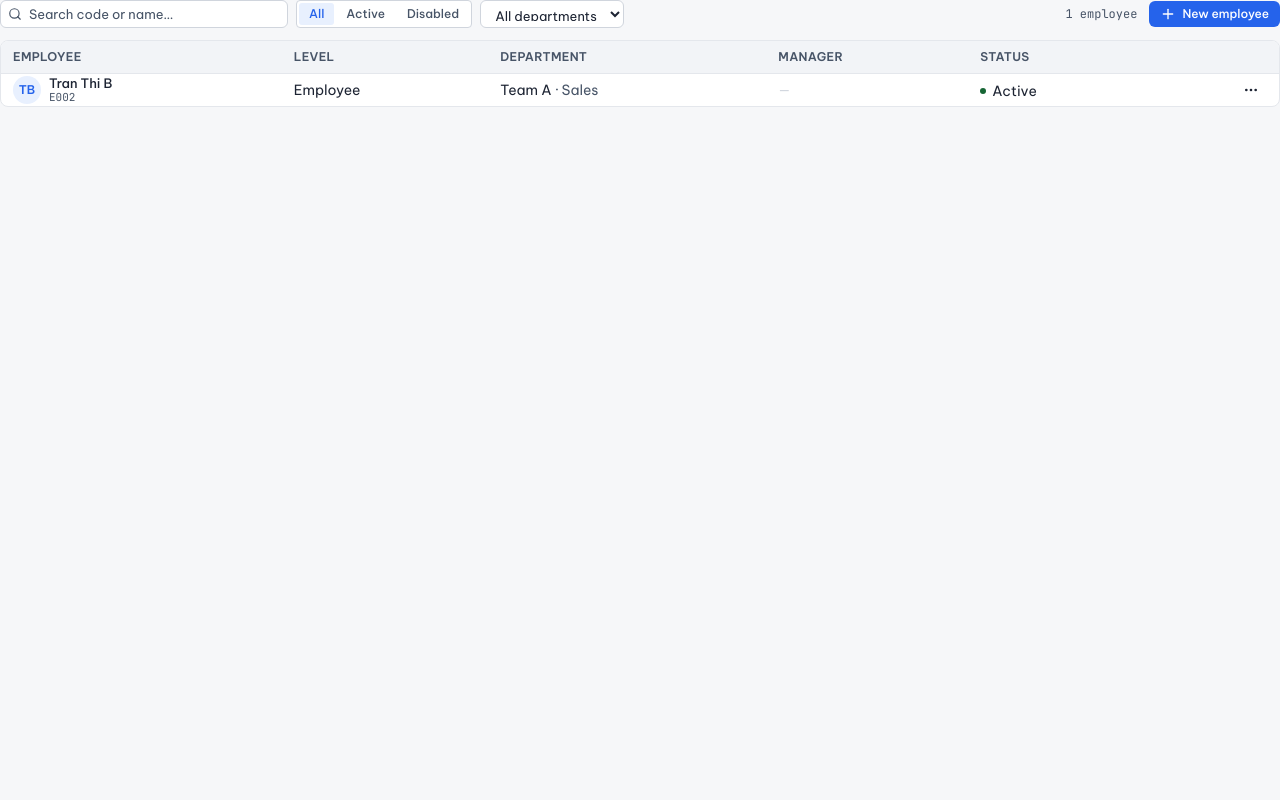
Scenario: UsersPanel: row actions › asks first, then disables the employee and reloads the list
This screenshot has width=1280, height=800.
Expected: the text "Tran Thi B" is shown, 49,74 -> 112,91
Click the button named "Actions for" at (1251, 90), box 1235,74 -> 1267,106
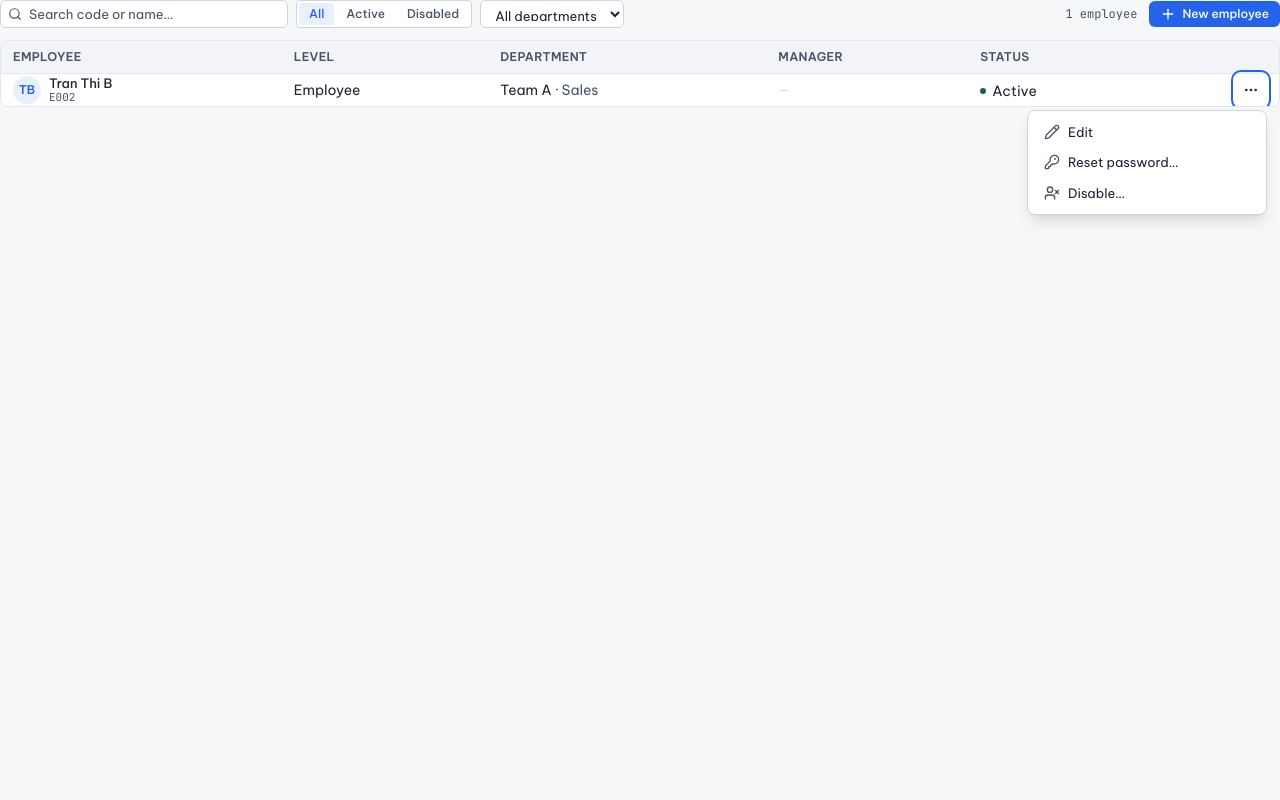
Click the menu item "Disable…" at (1147, 193), box 1034,178 -> 1260,208
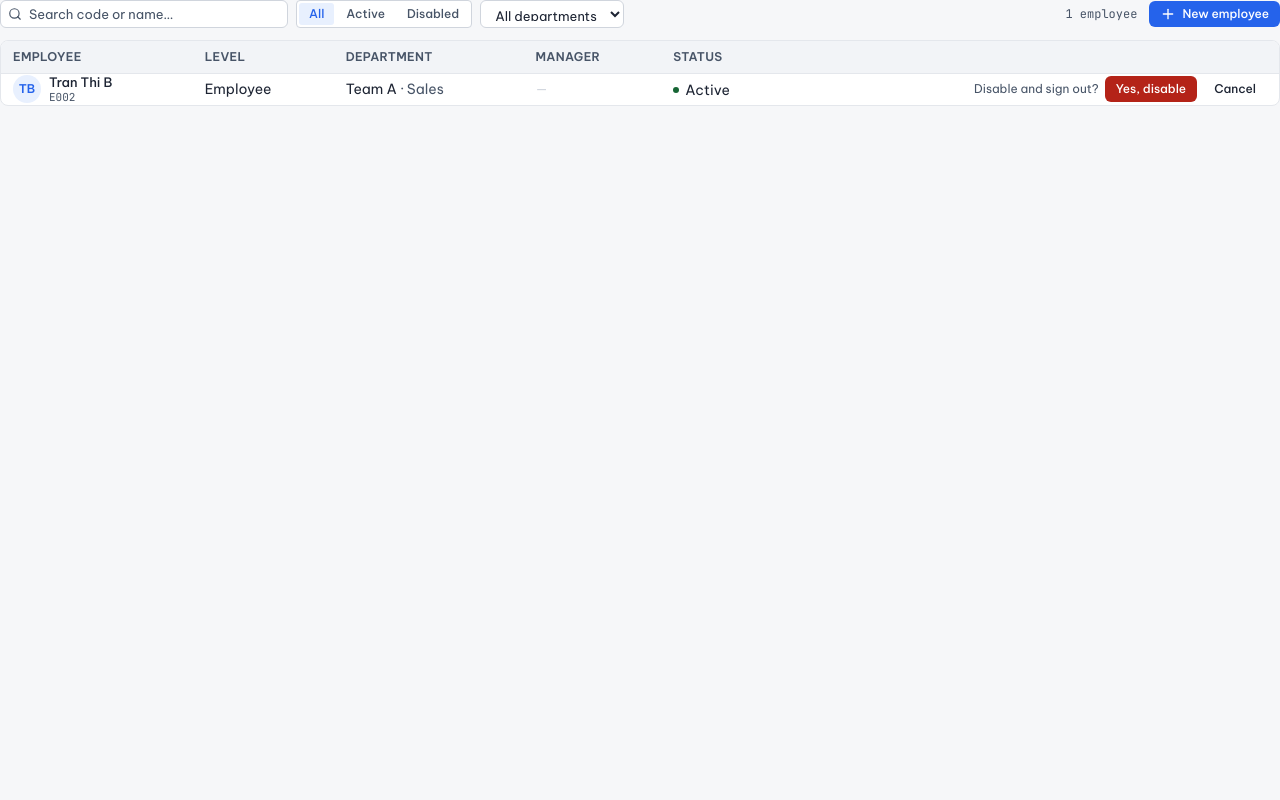
Click the button "Yes, disable" at (1151, 89), box 1105,76 -> 1197,102
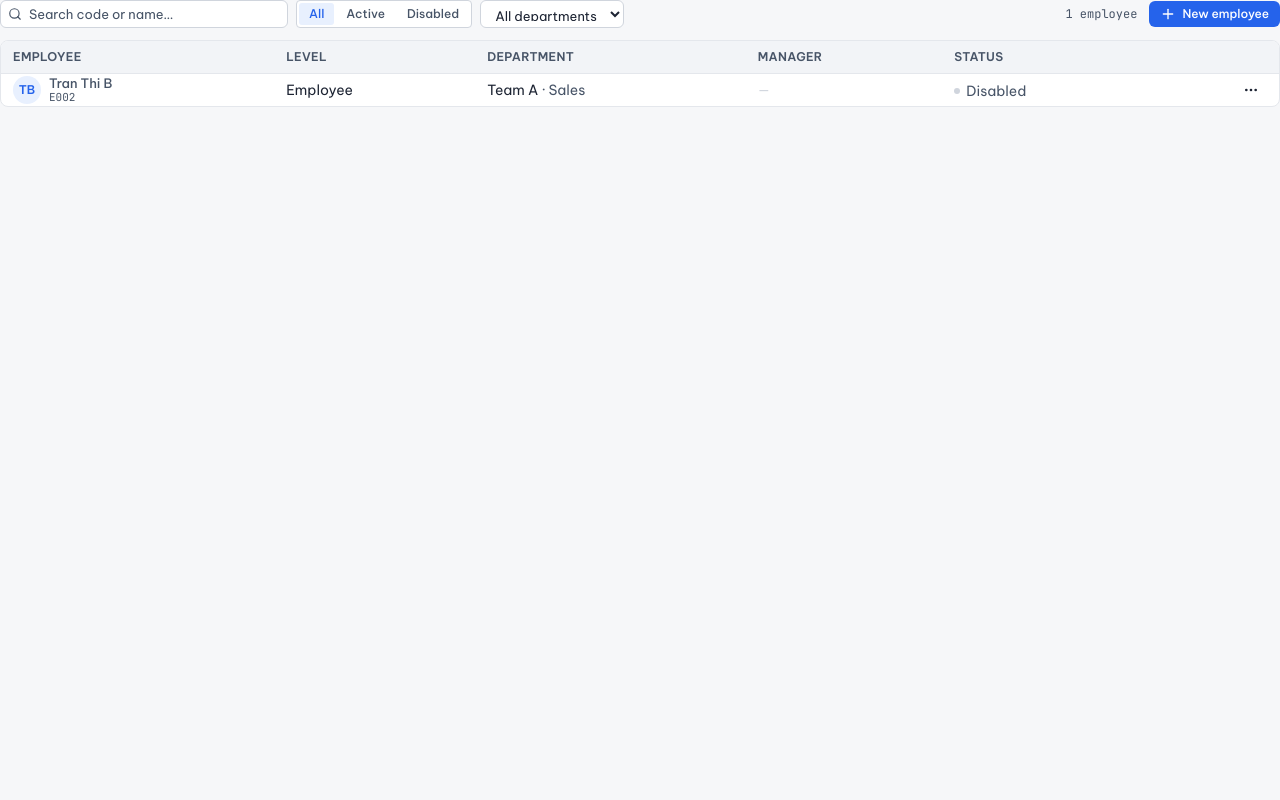
Expected: the text "Disabled" is shown, 966,80 -> 1026,100
Click the button named "Actions for" at (1251, 90), box 1235,74 -> 1267,106
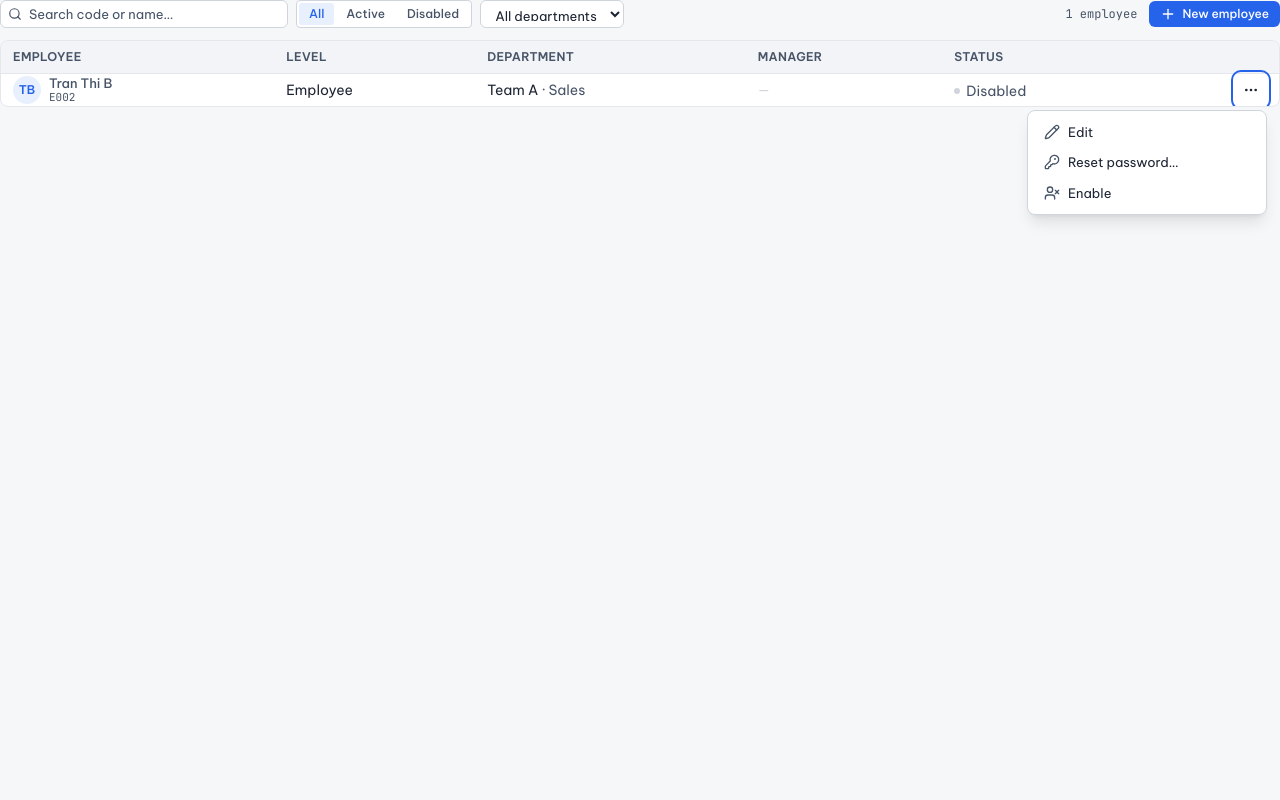
Expected: the menu item "Enable" is shown, 1034,178 -> 1260,208
